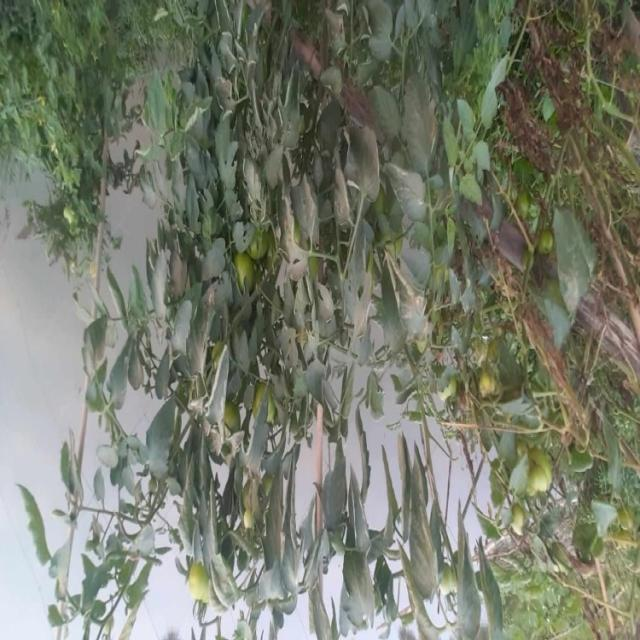tomato: (173, 546, 220, 602), (465, 371, 516, 417), (528, 220, 564, 272), (226, 254, 263, 304), (499, 509, 538, 547), (243, 227, 269, 273), (433, 562, 468, 596), (527, 452, 546, 491), (230, 507, 260, 531)
